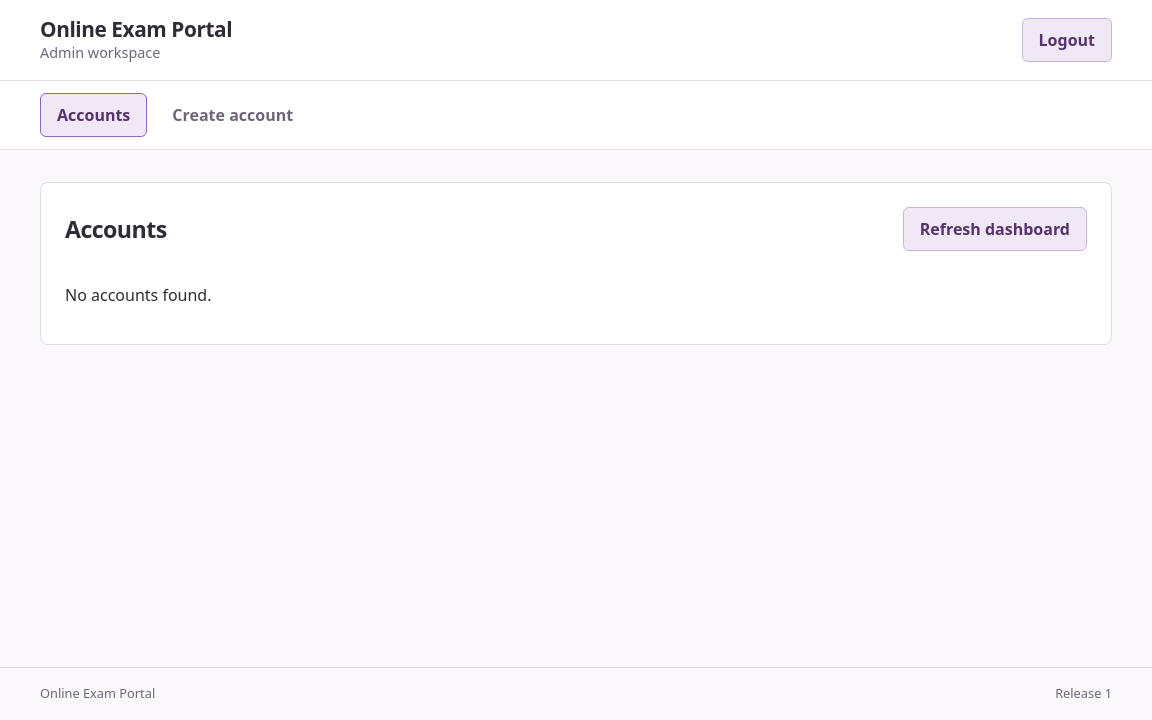
failed account creation stays on the form with its error and entered values
This screenshot has width=1152, height=720.
Expected: the text "No accounts found." is shown, [65,284,212,306]
Click the tab "Create account": (233, 115) [155,93,310,137]
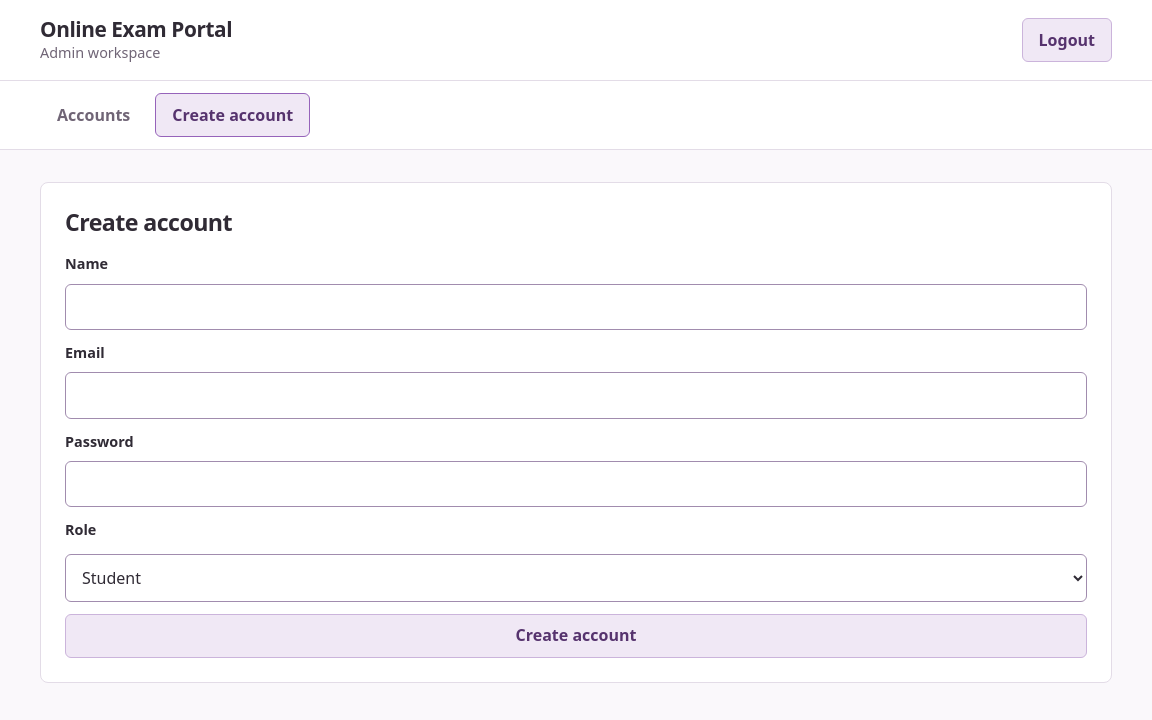
In the field named "Account name": (576, 307) [65,284,1087,330], type "Existing user"
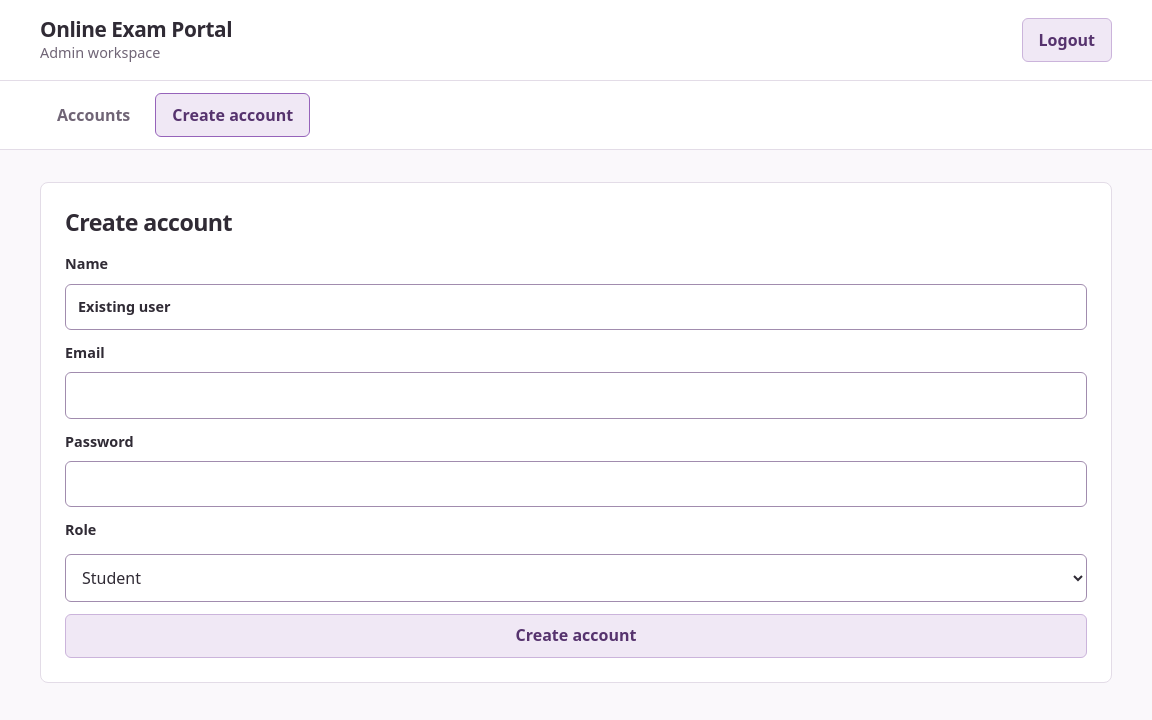
Submit the form "Create account", box [65,254,1087,658]
(page scrolled)
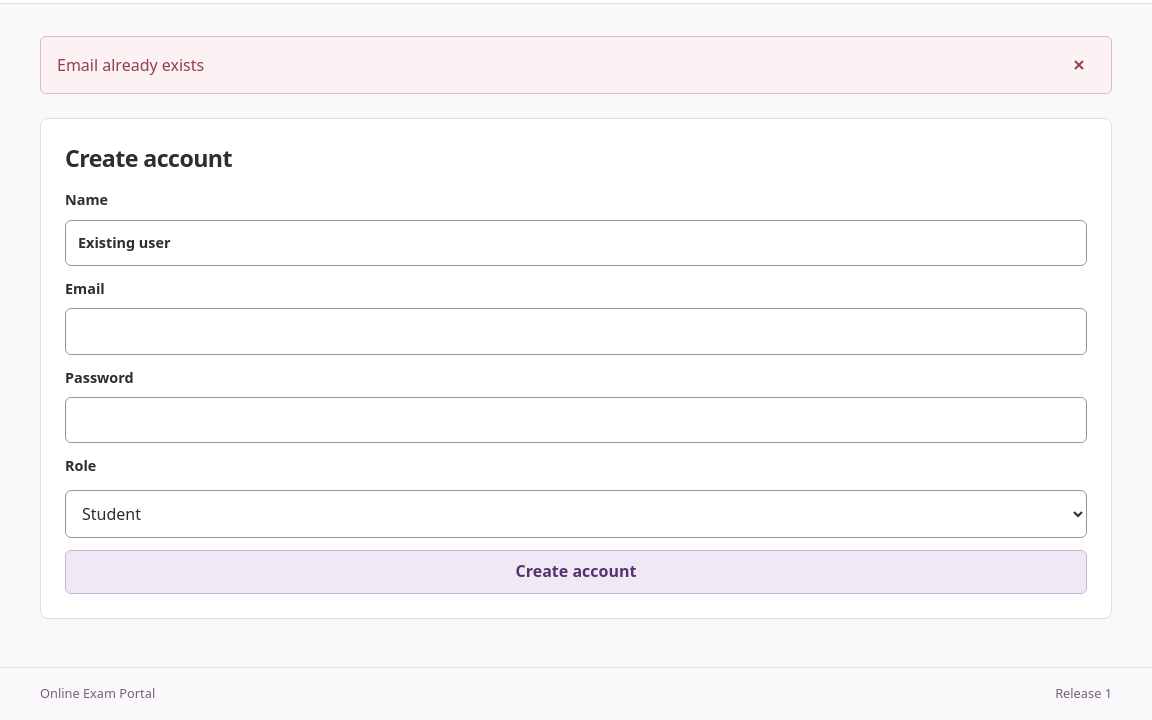
Expected: the button "Create account" is enabled, [65,550,1087,594]
Expected: the message reads "Email already exists", [57,54,204,76]
